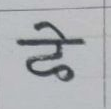e_matra: (34, 22, 69, 39)
